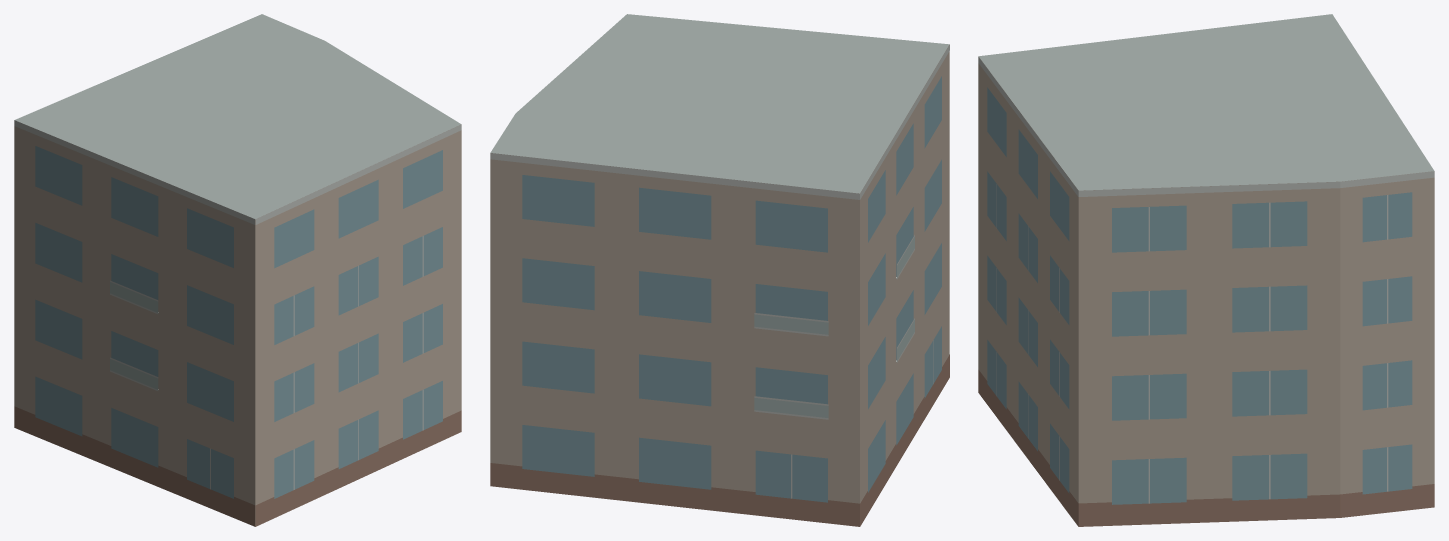
The model's file is survey-upis-32773667.glb.
The picture shows the model from 3 angles, left to right: view 1: azimuth 30°, elevation 25°; view 2: azimuth 150°, elevation 25°; view 3: azimuth 270°, elevation 25°; orthographic projection. The views are drawn at different scales.
Parts seen in each view (by area): view 1: survey-upis-32773667.tmp; view 2: survey-upis-32773667.tmp; view 3: survey-upis-32773667.tmp.
Boxes of the visible parts, <box> form: survey-upis-32773667.tmp: <box>14,14,461,526</box>; survey-upis-32773667.tmp: <box>490,14,949,526</box>; survey-upis-32773667.tmp: <box>978,14,1434,526</box>.
Size of the model in its own units: 14.2 by 12.6 by 15.5.
